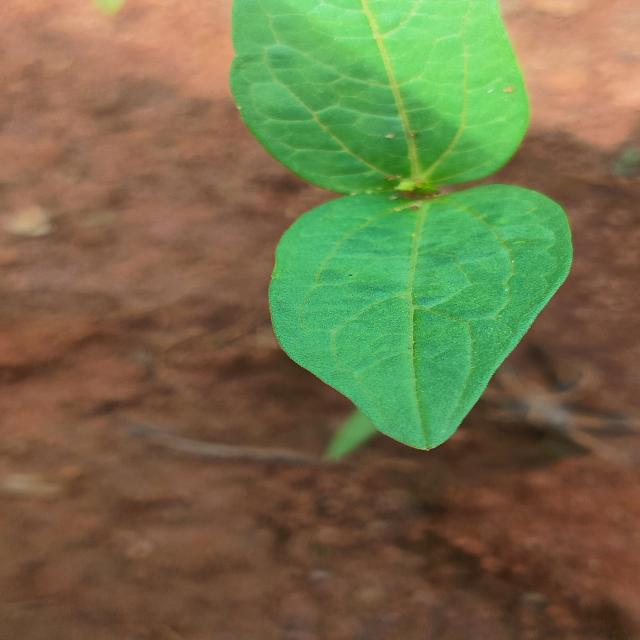Black gram_healthy: (276, 186, 568, 451), (222, 0, 534, 194)
